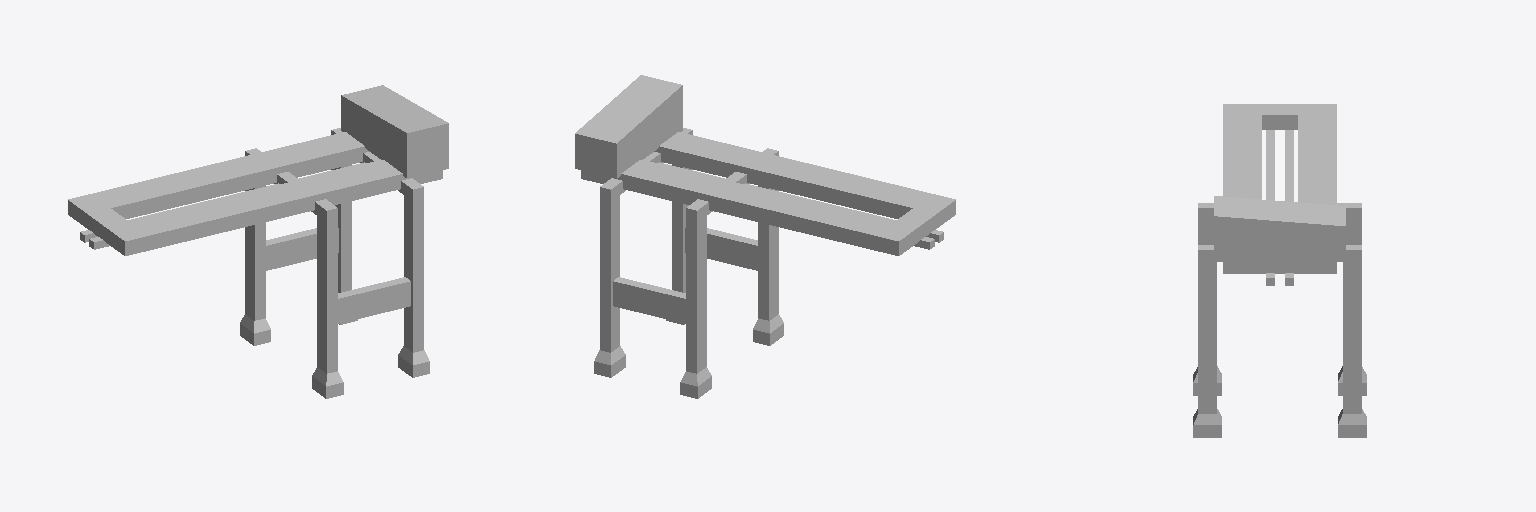
Rendered from zeeKraan.obj.
3 views of the same model, side by side, from view 1: azimuth 30°, elevation 25°; view 2: azimuth 150°, elevation 25°; view 3: azimuth 270°, elevation 25° (orthographic).
Visible parts, largest first — view 1: Frame_Cube.001; view 2: Frame_Cube.001; view 3: Frame_Cube.001.
Boxes of the visible parts, x1=… form: Frame_Cube.001: x1=68, y1=85, x2=448, y2=398; Frame_Cube.001: x1=575, y1=75, x2=955, y2=398; Frame_Cube.001: x1=1193, y1=104, x2=1366, y2=437.
Size of the model in its own units: 45 by 30 by 20.